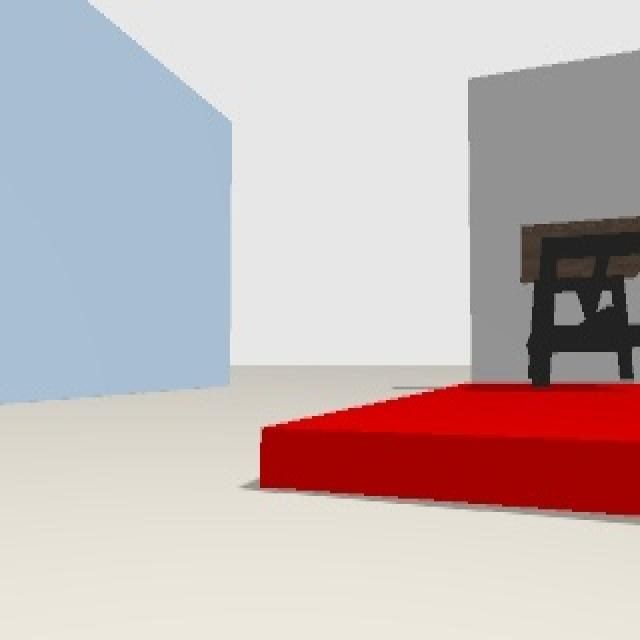dining: (518, 212, 640, 384)
